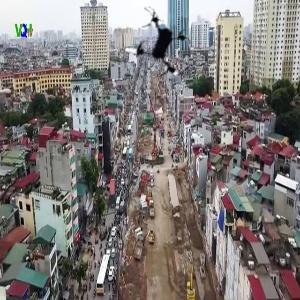drone: (117, 5, 195, 83)
